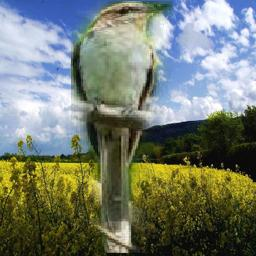Cuckoo: (71, 1, 173, 253)
